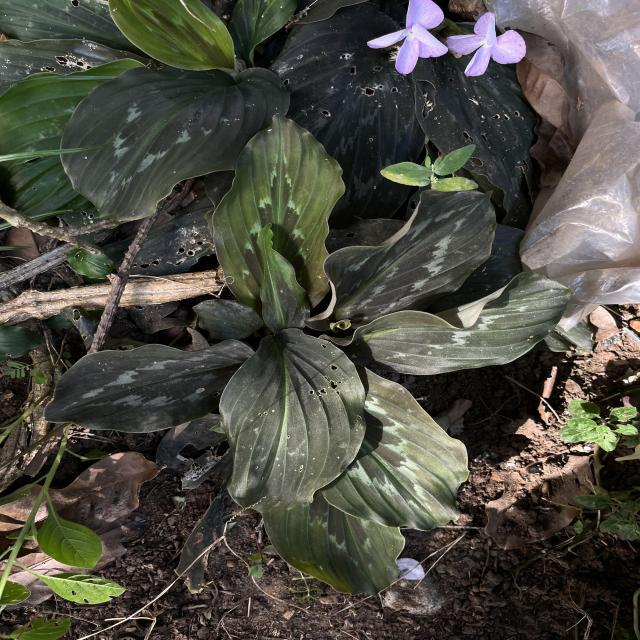Kaempferia galanga linn: (58, 62, 292, 224), (302, 187, 500, 335), (217, 324, 370, 514), (210, 110, 348, 318), (317, 270, 578, 378), (318, 360, 472, 533), (42, 336, 255, 434), (254, 221, 313, 334)
